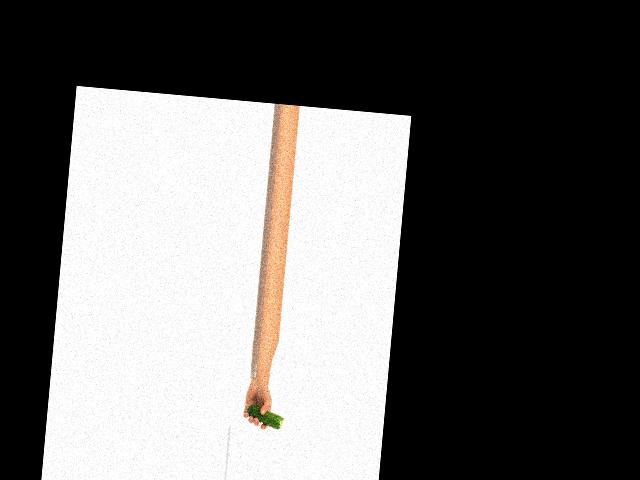cucumber: (245, 404, 284, 429)
